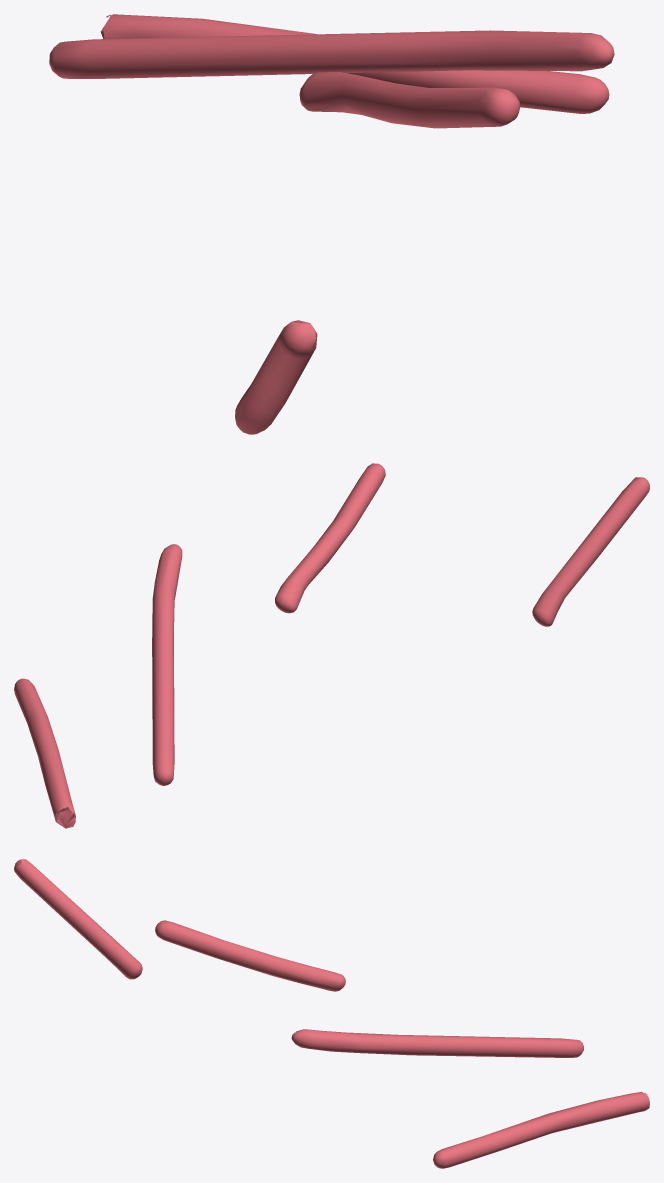
Rendered from fma71564_fj2095.glb.
3 views of the same model, one above another, from view 1: azimuth 30°, elevation 25°; view 2: azimuth 150°, elevation 25°; view 3: azimuth 270°, elevation 25° (orthographic). The views are drawn at different scales.
Parts seen in each view (by area): view 1: FMA71564_FJ2095; view 2: FMA71564_FJ2095; view 3: FMA71564_FJ2095.
Part boxes in pixels (x1,y1,x2,y2): FMA71564_FJ2095: [49, 14, 614, 434]; FMA71564_FJ2095: [14, 463, 649, 828]; FMA71564_FJ2095: [14, 859, 649, 1168].
Bounding box in the file's own units: 0.0315 × 0.0137 × 0.0468.
